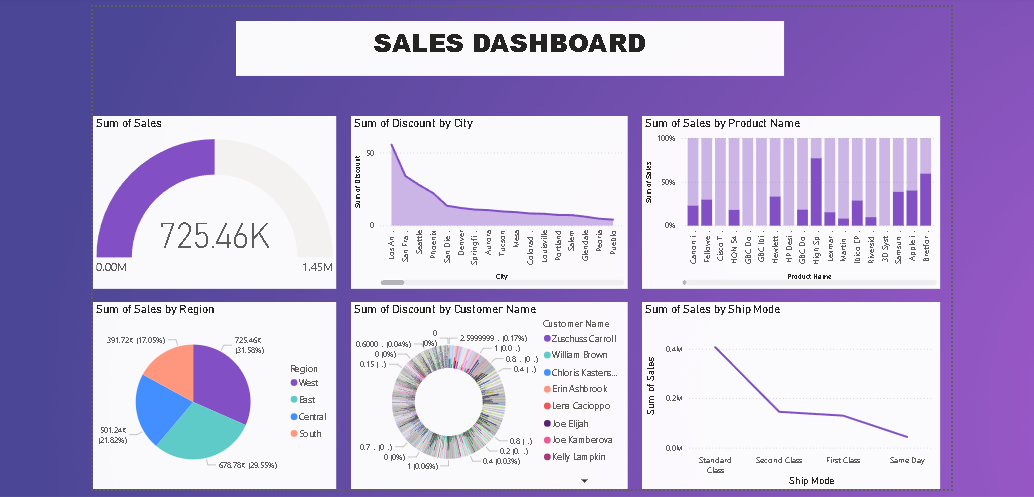

The dashboard page shown, as its layout file describes it:
{"tool":"powerbi","page":{"name":"Page 1","canvas":[1280,720],"ordinal":0},"visuals":[{"type":"pieChart","fields":{"Category":["Orders.Region"],"Y":["Sum(Orders.Sales)"]},"box":[0,440.5,362.9,279.5],"z":0},{"type":"donutChart","fields":{"Category":["Orders.Customer Name"],"Y":["Sum(Orders.Discount)"]},"box":[384.9,440.5,412.7,279.5],"z":1},{"type":"lineChart","fields":{"Category":["Orders.Ship Mode"],"Y":["Sum(Orders.Sales)"]},"box":[819.5,440.5,444.9,279.5],"z":2},{"type":"gauge","fields":{"Y":["Sum(Orders.Sales)"]},"box":[0,162.4,362.9,257.6],"z":7},{"type":"areaChart","fields":{"Category":["Orders.City"],"Y":["Sum(Orders.Discount)"]},"box":[384.9,162.4,412.7,257.6],"z":8},{"type":"hundredPercentStackedColumnChart","fields":{"Category":["Orders.Product Name"],"Y":["Sum(Orders.Sales)"]},"box":[819.5,162.4,444.9,257.6],"z":9},{"type":"textbox","box":[213.7,20.5,818,82],"z":10}]}

Visuals, with their boxes in screenshot pixels (x1, y1, x2, y2):
pieChart - Orders.Region x Sum(Orders.Sales): x1=83 y1=303 x2=331 y2=494
donutChart - Orders.Customer Name x Sum(Orders.Discount): x1=346 y1=303 x2=628 y2=494
lineChart - Orders.Ship Mode x Sum(Orders.Sales): x1=643 y1=303 x2=946 y2=494
gauge - Sum(Orders.Sales): x1=83 y1=113 x2=331 y2=289
areaChart - Orders.City x Sum(Orders.Discount): x1=346 y1=113 x2=628 y2=289
hundredPercentStackedColumnChart - Orders.Product Name x Sum(Orders.Sales): x1=643 y1=113 x2=946 y2=289
textbox: x1=229 y1=17 x2=787 y2=73
